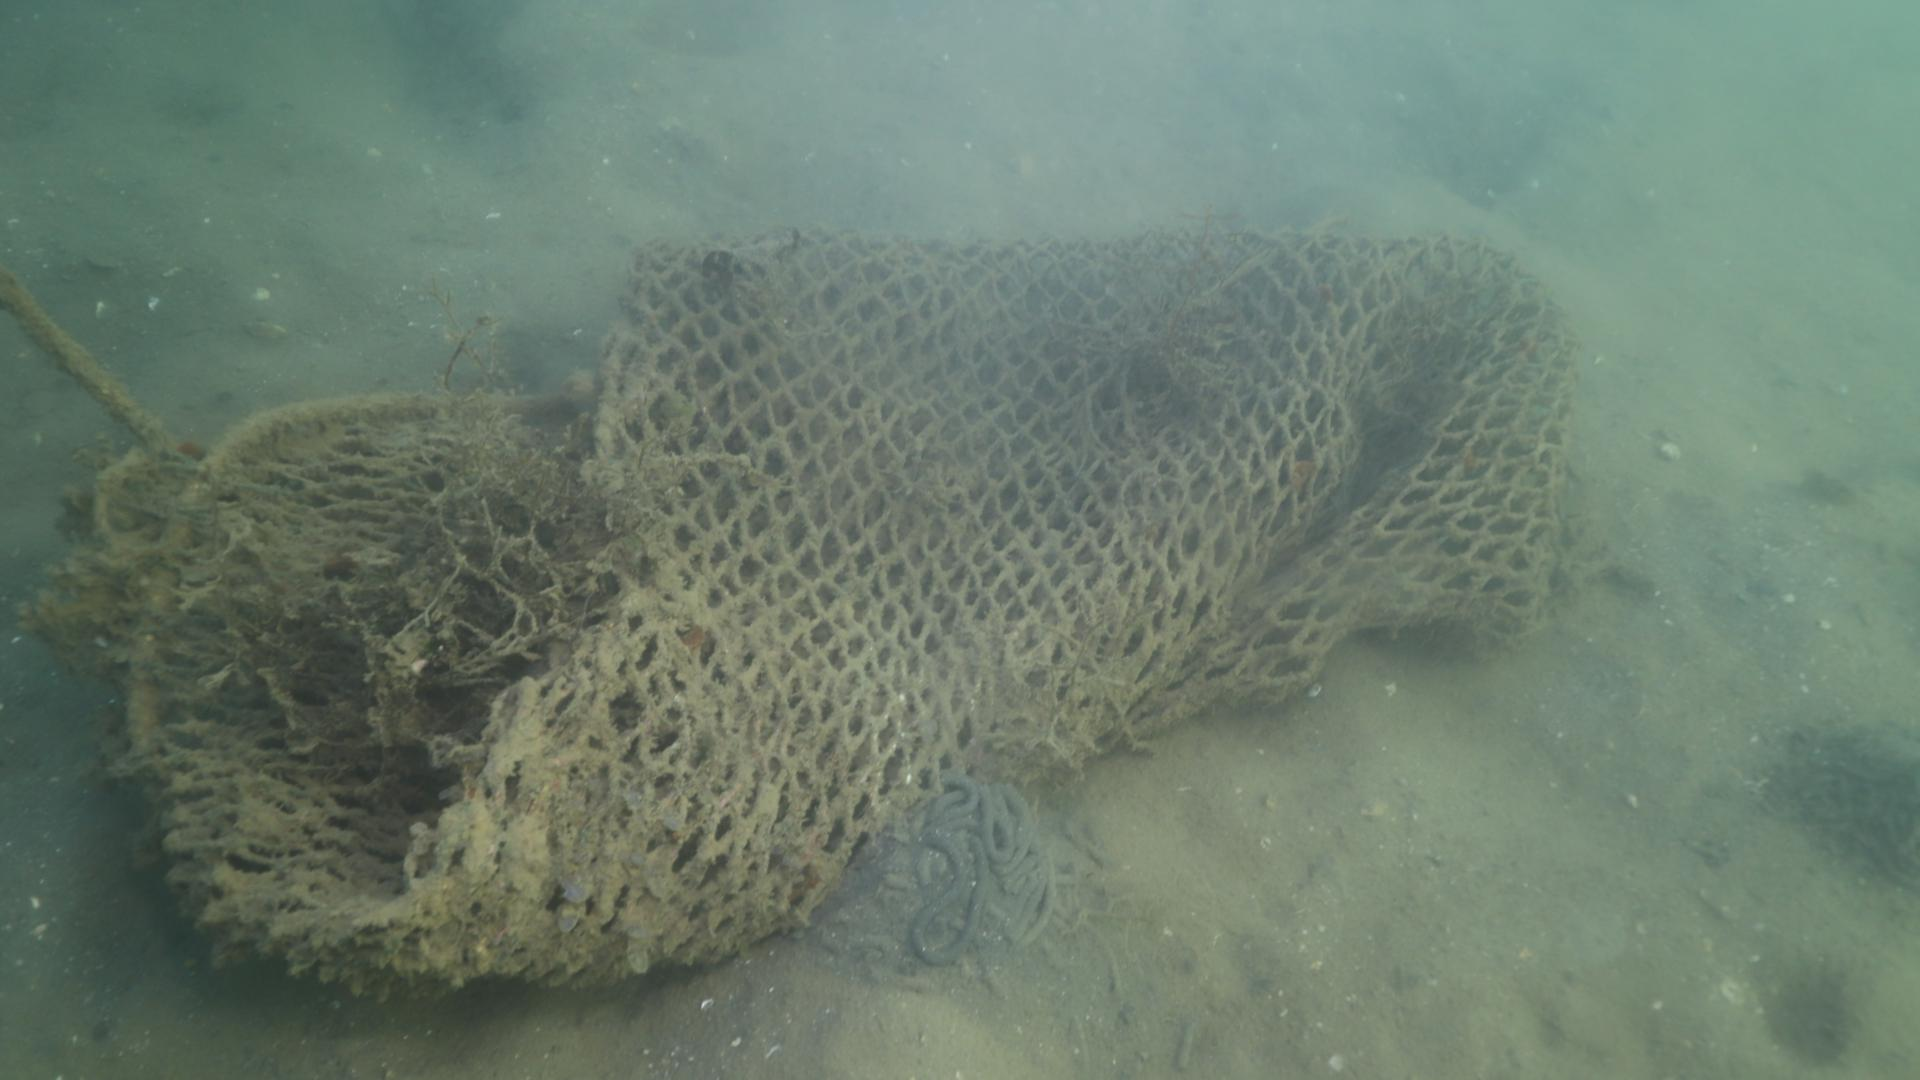fish net: (131, 237, 1586, 996)
